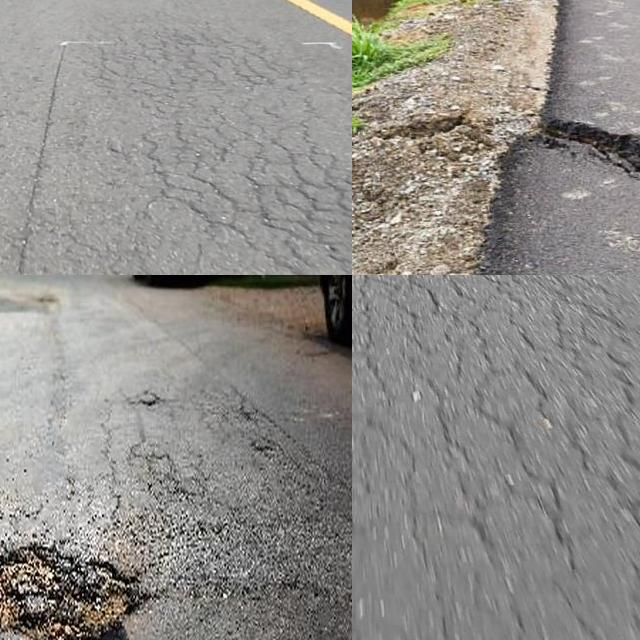Lubang: (0, 545, 151, 640)
Pinggir: (447, 118, 640, 275)
Retak Buaya: (352, 275, 640, 590), (75, 25, 352, 275)
